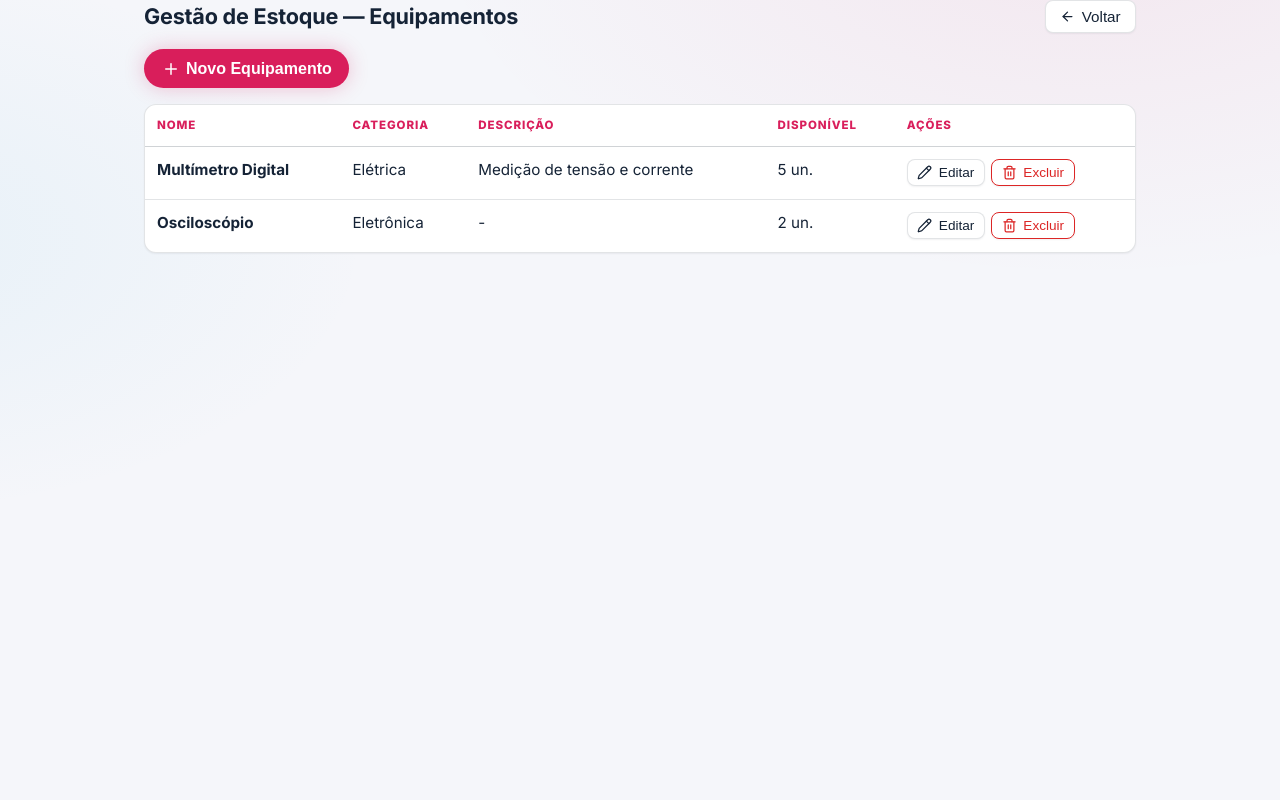
Test: Gestão de Estoque — Equipamentos › edita um equipamento preenchendo o modal com os valores atuais
Click the button "Editar" in the row of "Multímetro Digital" at (946, 173), box [907,159,985,186]
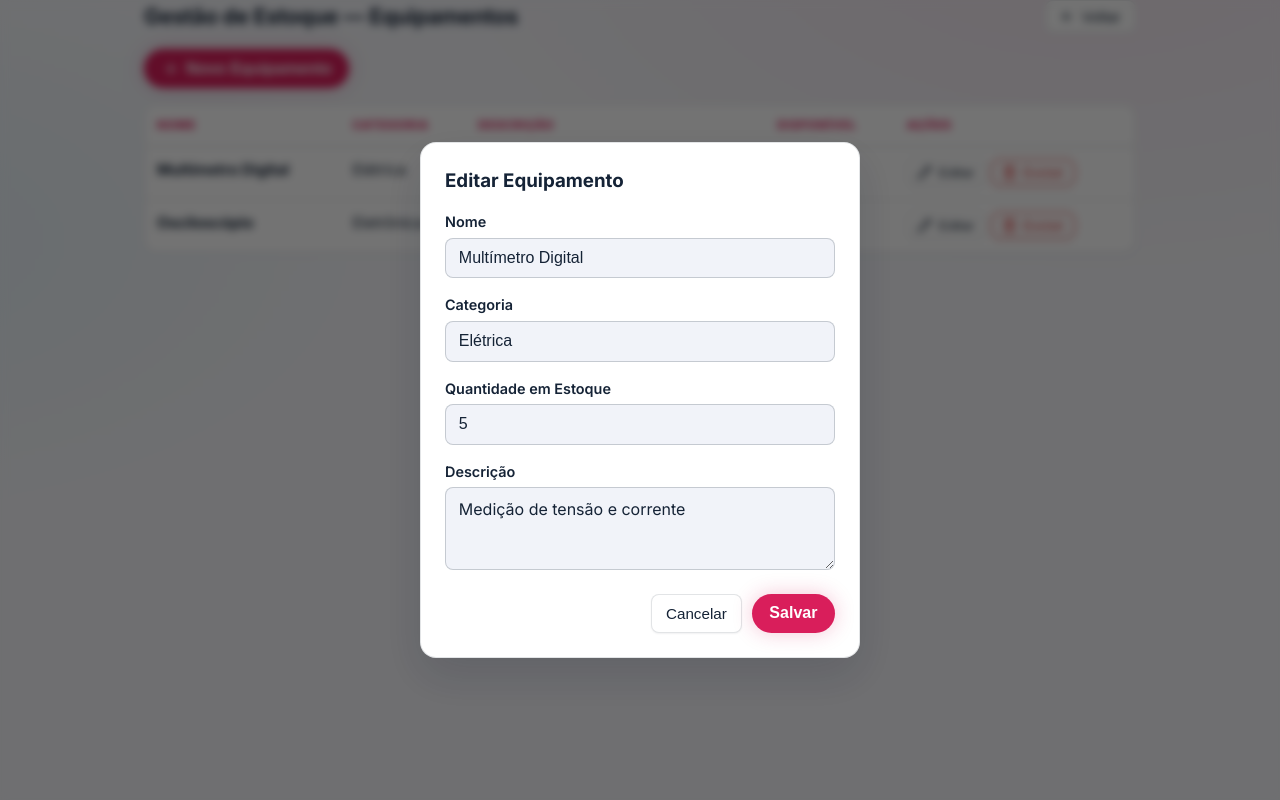
Expected: the field labelled "Nome" holds "Multímetro Digital", [445,238,835,278]
Expected: the field labelled "Categoria" holds "Elétrica", [445,321,835,362]
Expected: the number field labelled "Quantidade em Estoque" holds "5"
Replace the text in the number field labelled "Quantidade em Estoque" with "8" at (640, 424), box [445,404,835,445]
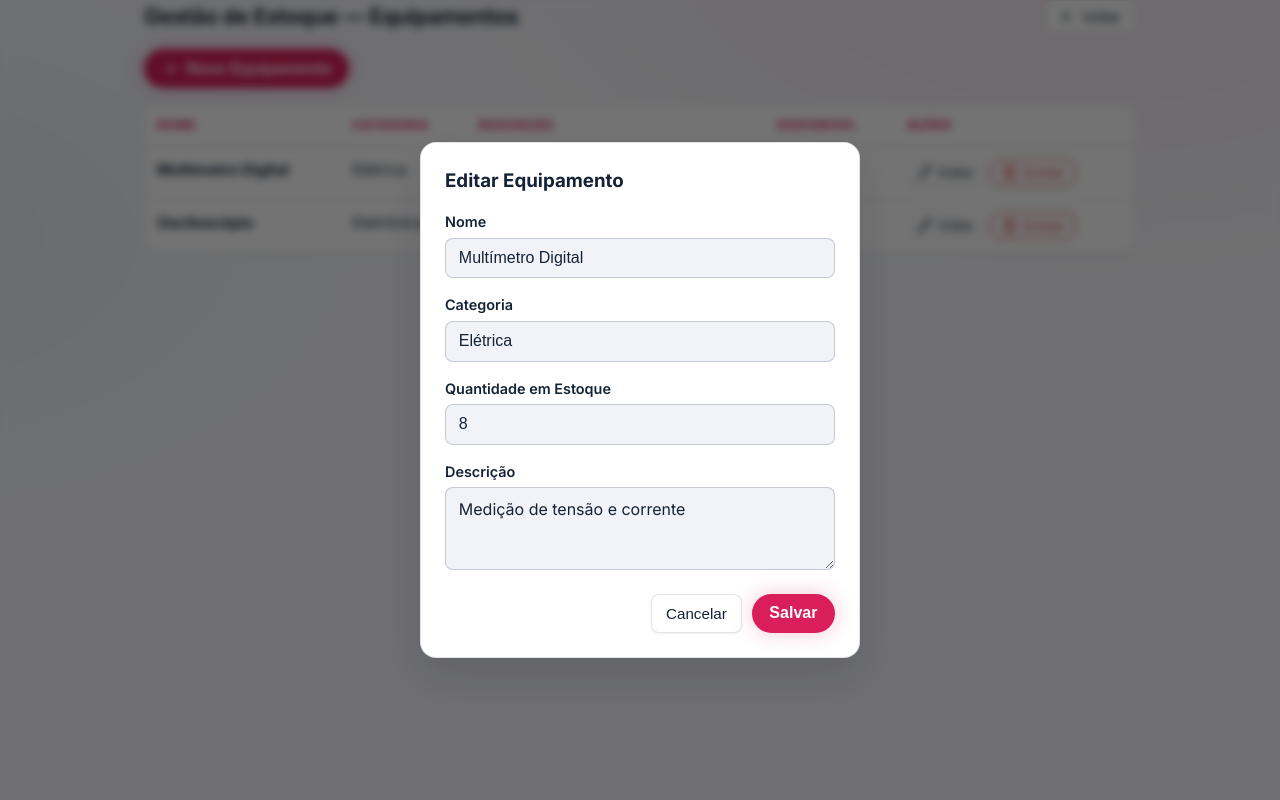
Click the button "Salvar" at (793, 613), box [752,594,835,633]
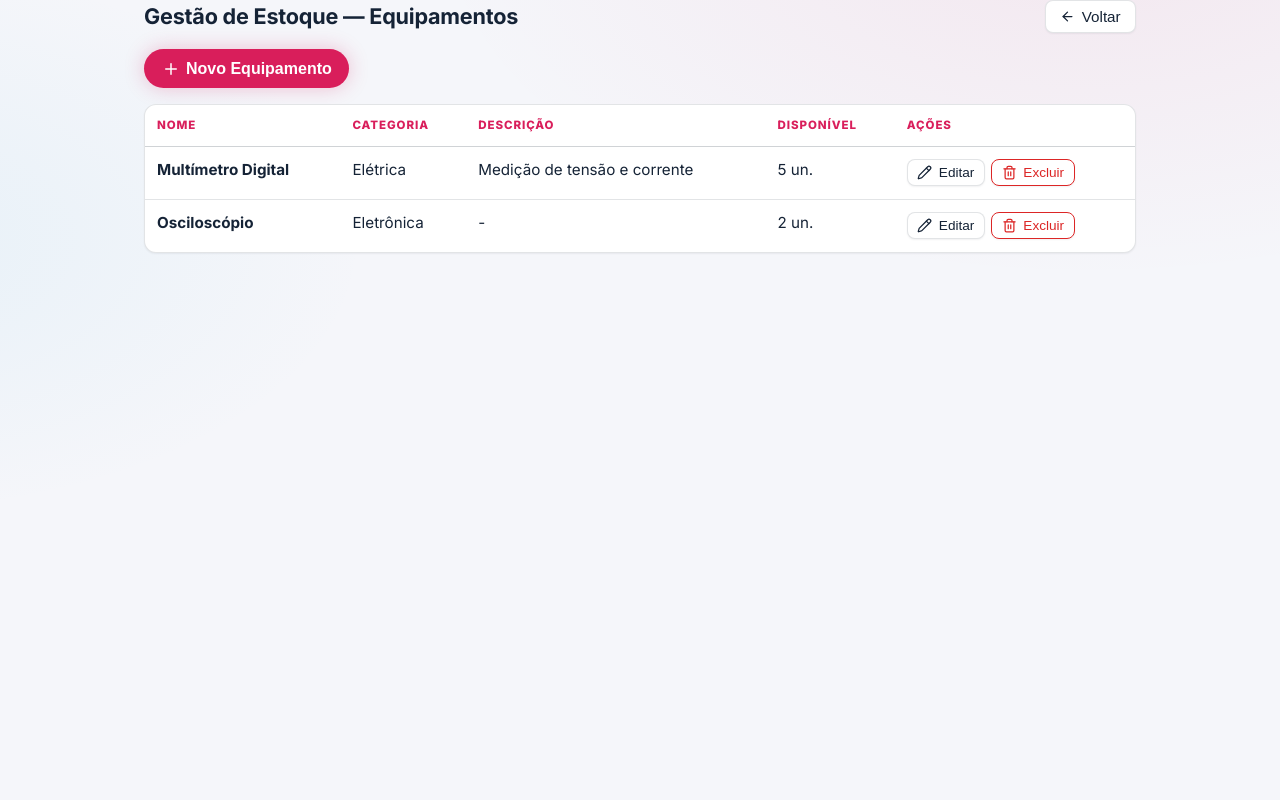
Expected: the dialog is gone
